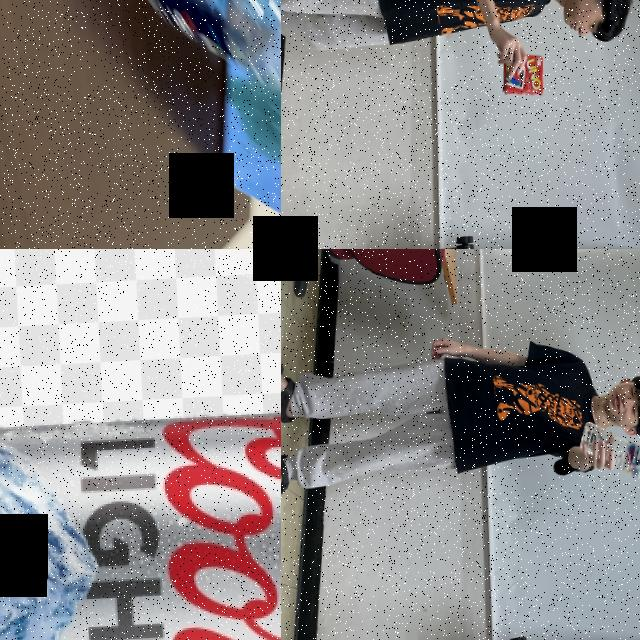bottle: (56, 0, 281, 136), (577, 417, 640, 483)
can: (0, 400, 281, 640)
